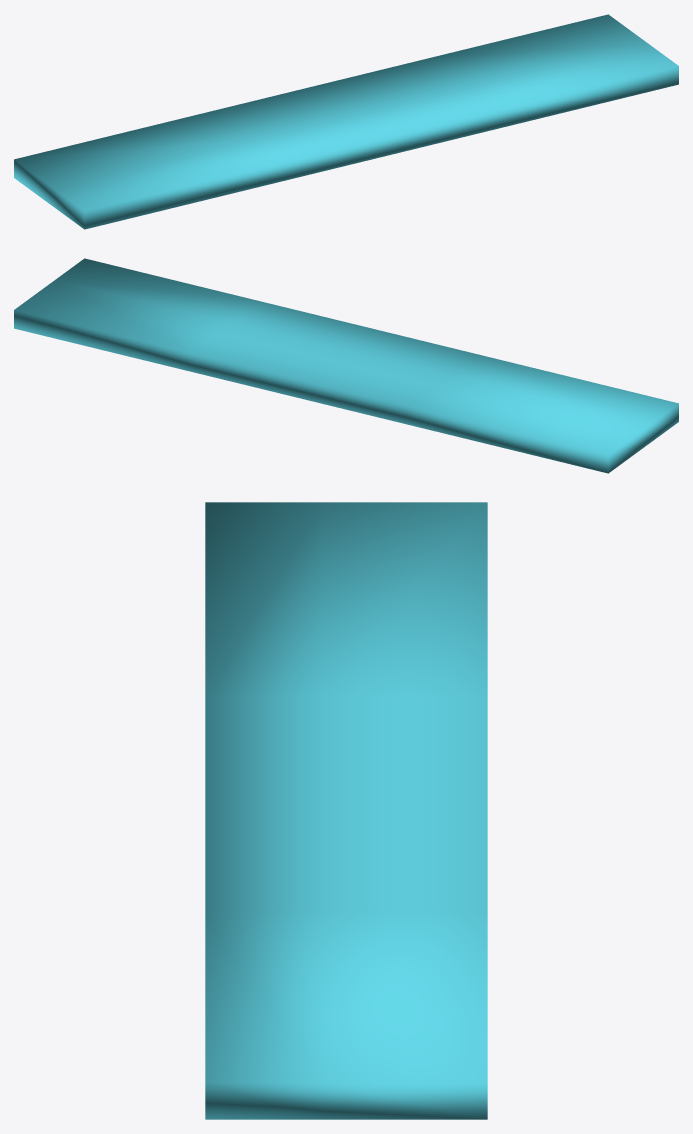
Rendered from puddle.glb.
The picture shows the model from 3 angles, top to bottom: view 1: azimuth 30°, elevation 25°; view 2: azimuth 150°, elevation 25°; view 3: azimuth 270°, elevation 25°; orthographic projection. The views are drawn at different scales.
Parts seen in each view (by area): view 1: Cube; view 2: Cube; view 3: Cube.
Boxes of the visible parts, left/top/right/bottom form: Cube: left=14, top=14, right=678, bottom=229; Cube: left=14, top=258, right=678, bottom=473; Cube: left=205, top=502, right=487, bottom=1119.
Size of the model in its own units: 7.39 by 0.2201 by 1.52.
